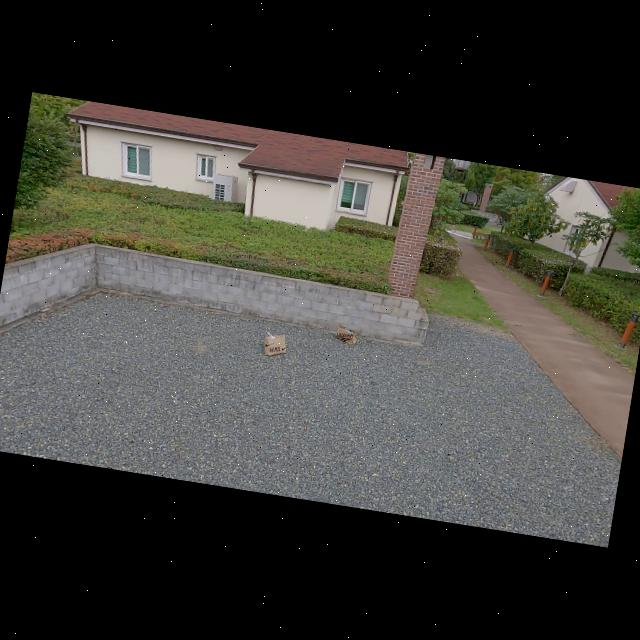trash: (260, 328, 289, 359), (335, 320, 362, 344)
